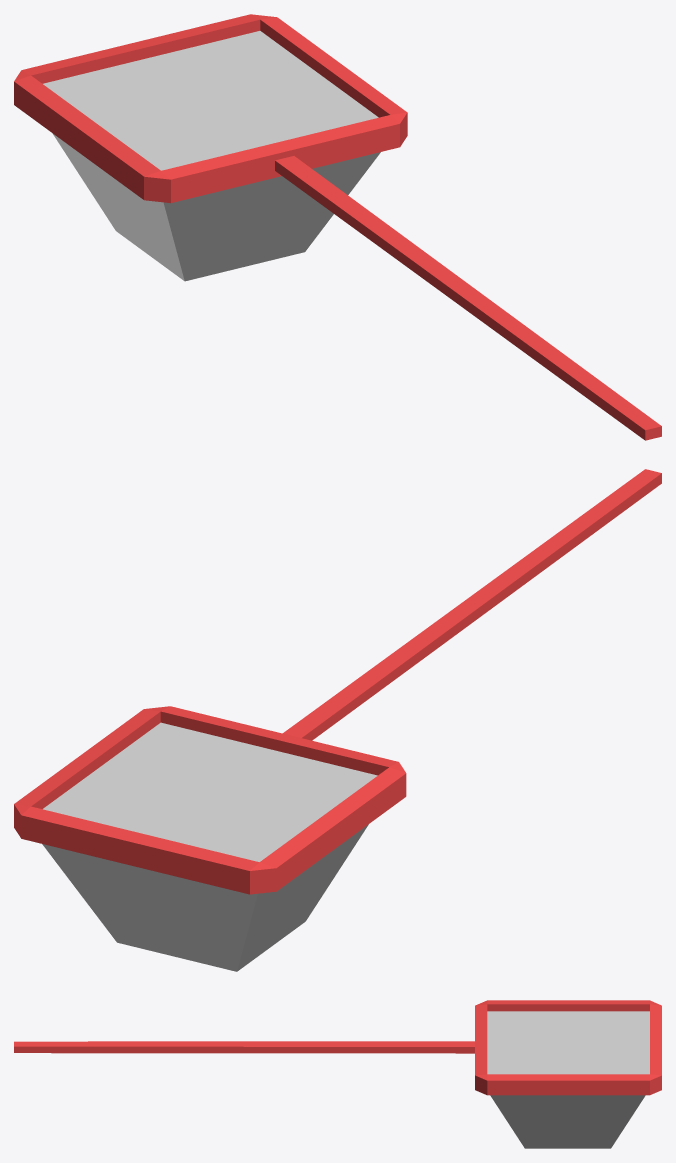
Rendered from net LOD1.fbx.
3 views of the same model, one above another, from view 1: azimuth 30°, elevation 25°; view 2: azimuth 150°, elevation 25°; view 3: azimuth 270°, elevation 25° (orthographic). The views are drawn at different scales.
Parts seen in each view (by area): view 1: Куб.004, Куб.002, Куб.003; view 2: Куб.004, Куб.002, Куб.003; view 3: Куб.004, Куб.002, Куб.003.
Boxes of the visible parts, box(x1,y1,x2,y2) form: Куб.004: box(43, 31, 380, 281); Куб.002: box(14, 14, 407, 203); Куб.003: box(275, 156, 661, 440); Куб.004: box(42, 722, 377, 971); Куб.002: box(14, 706, 406, 894); Куб.003: box(282, 469, 661, 740); Куб.004: box(487, 1011, 649, 1148); Куб.002: box(475, 1000, 661, 1095); Куб.003: box(14, 1041, 474, 1053).
Bounding box in the file's own units: 396 × 210 × 1351.
